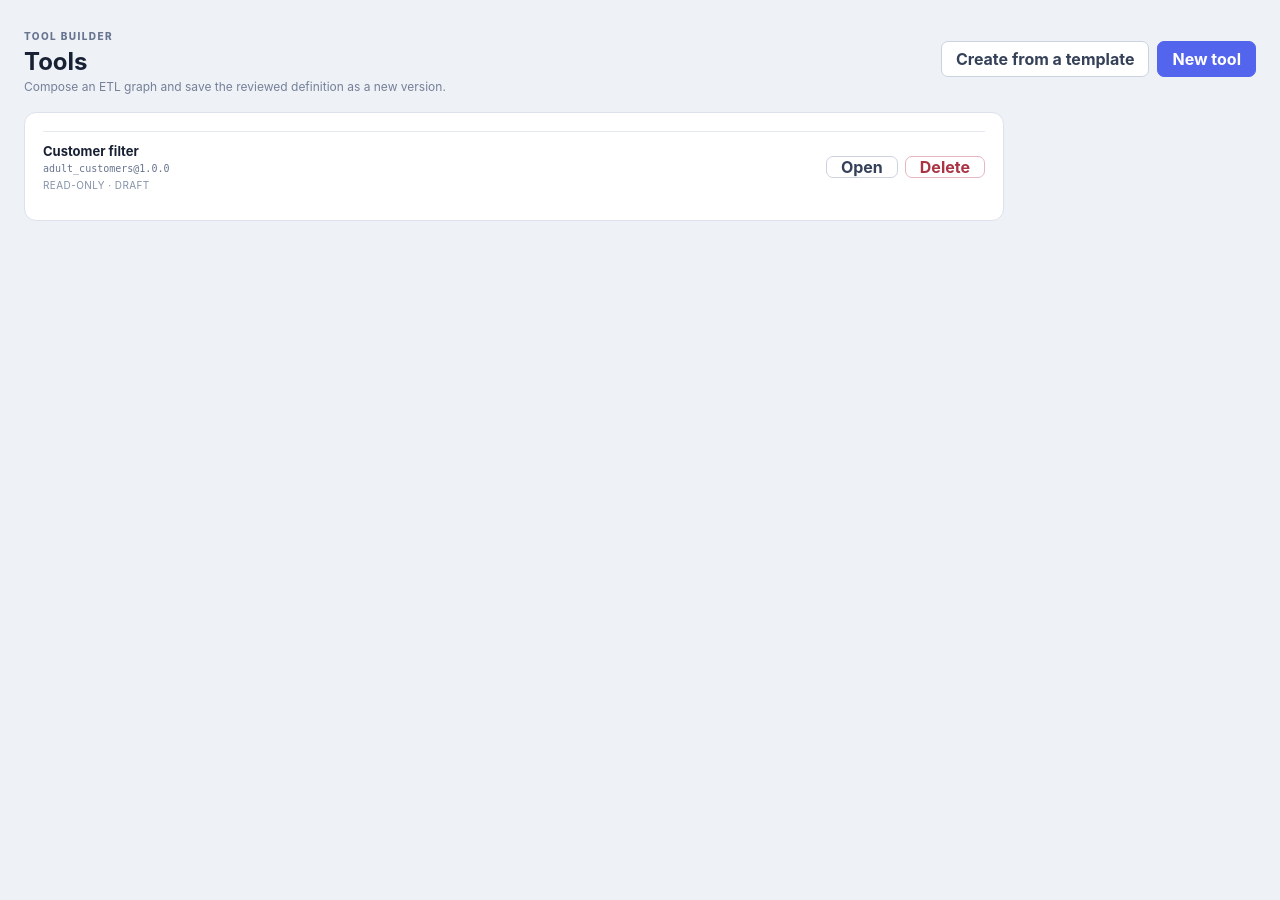
Scenario: ToolBuilder preview integration › 一覧のツール削除は確認ダイアログを経てから実行する
Click the button "Delete" at (945, 167), box [905,156,985,178]
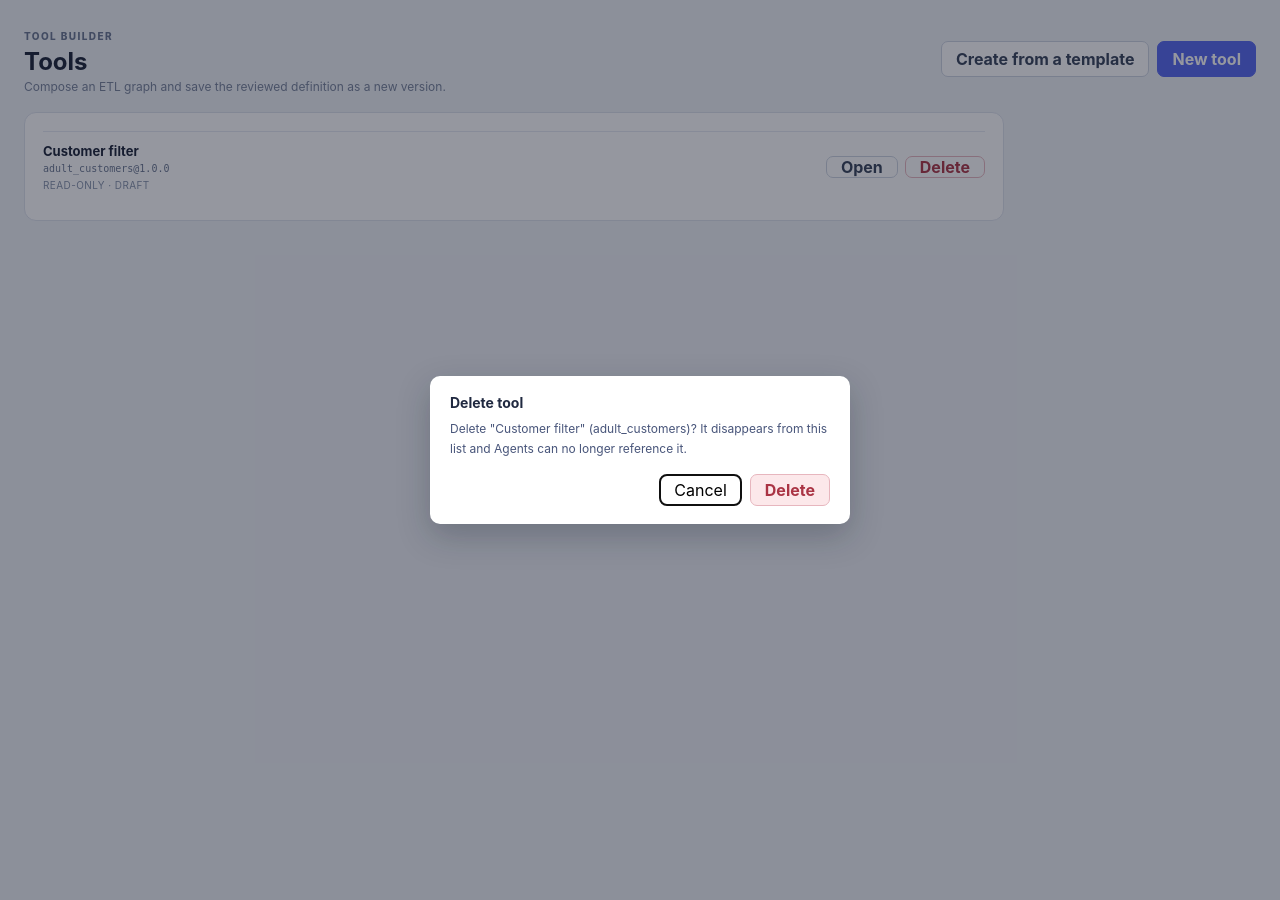
Expected: the dialog "Delete tool" shows "Customer filter", [450,421,827,456]
Expected: the dialog "Delete tool" shows "adult_customers", [450,421,827,456]
Click the button "Cancel" at (701, 490), box [659,474,742,506]
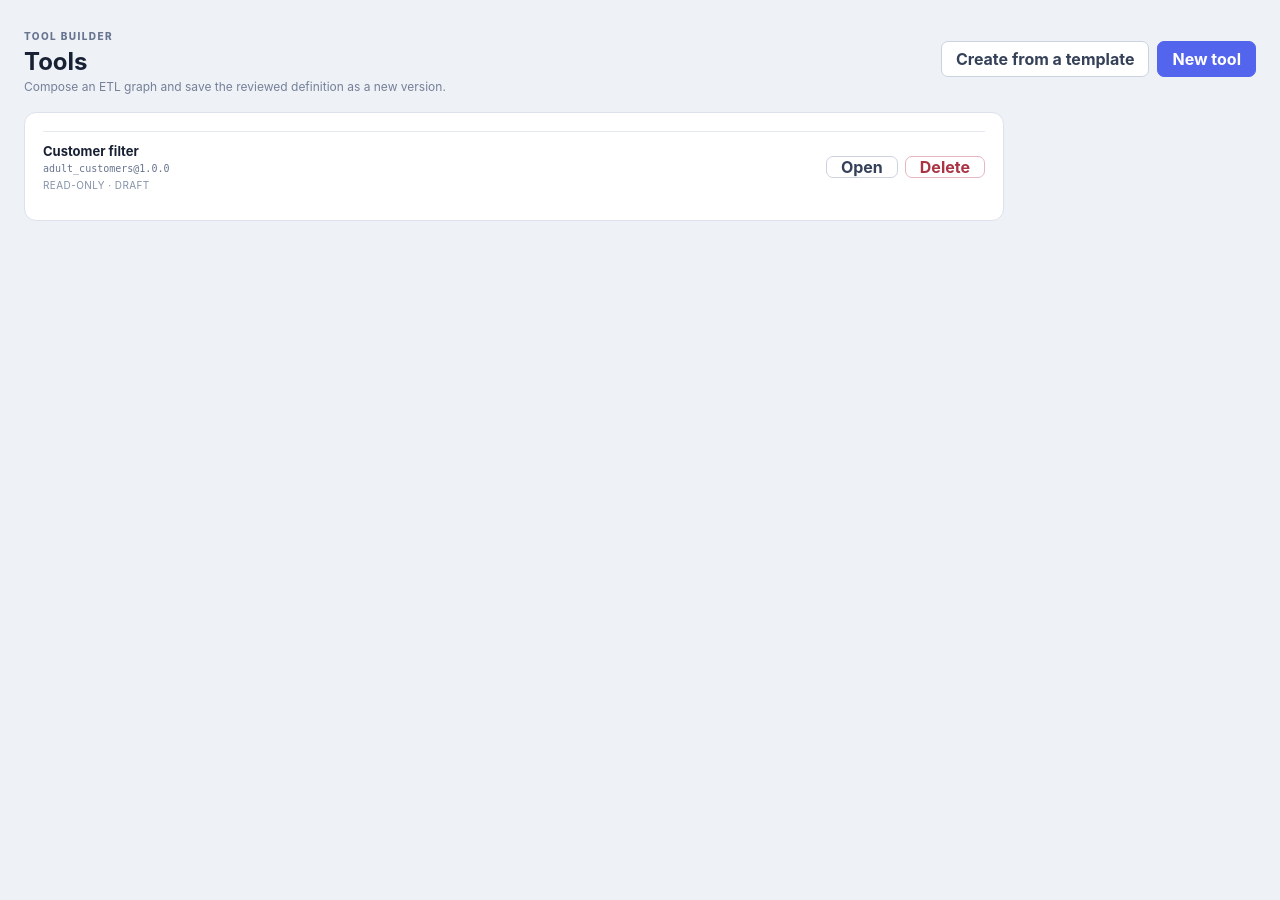
Expected: the dialog is gone
Click the button "Delete" at (945, 167), box [905,156,985,178]
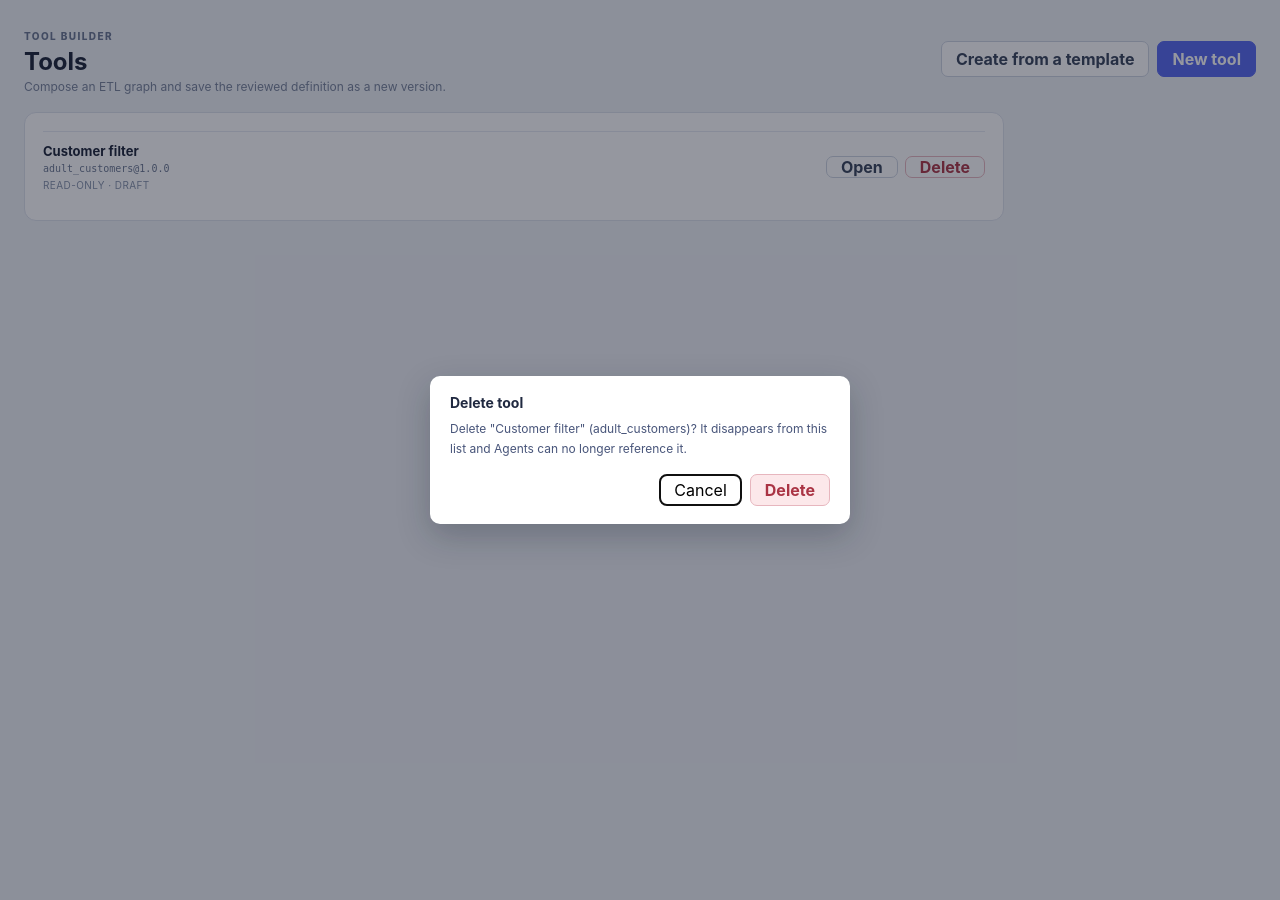
Click the button "Delete" at (790, 490), box [750,474,830,506]
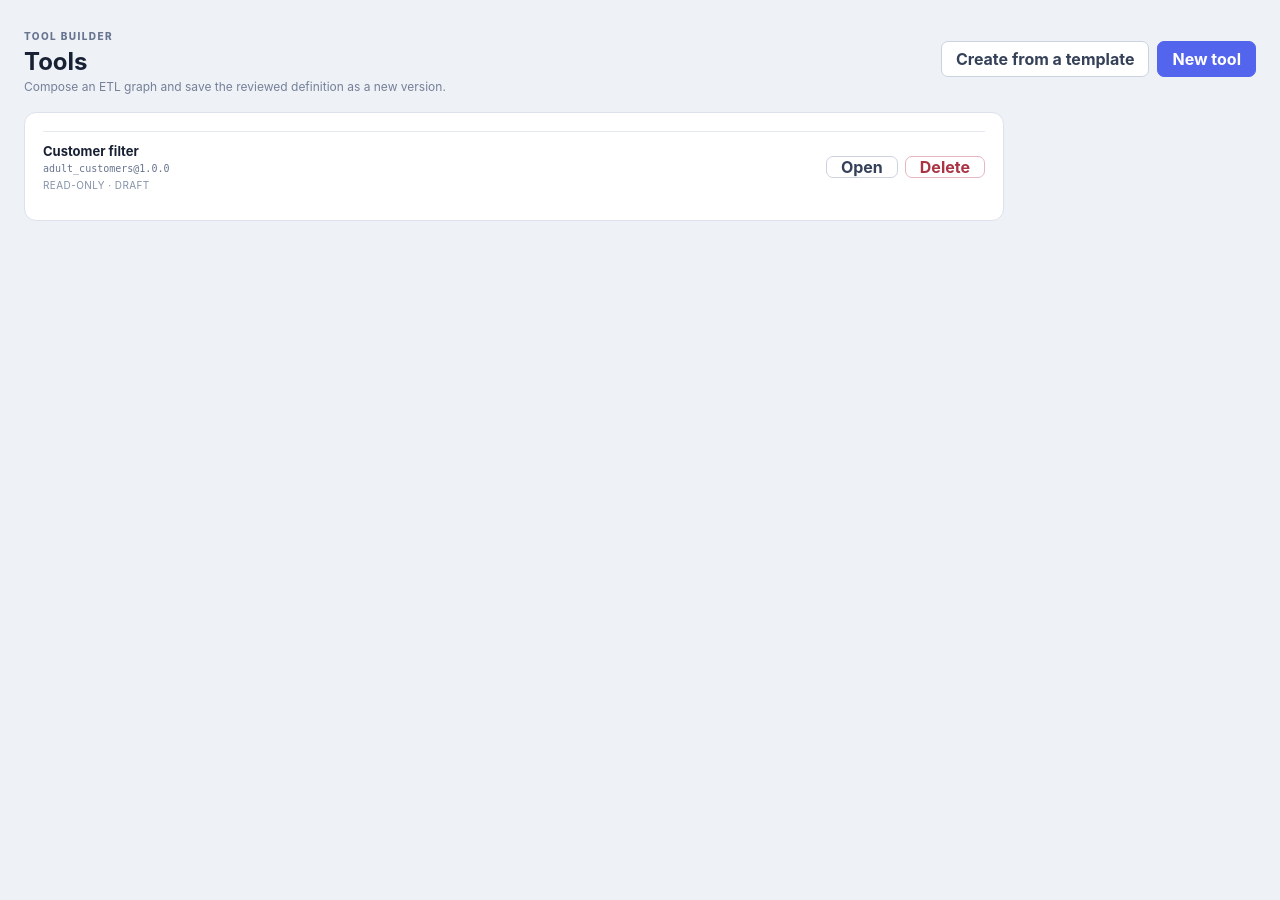
Expected: the dialog is gone
